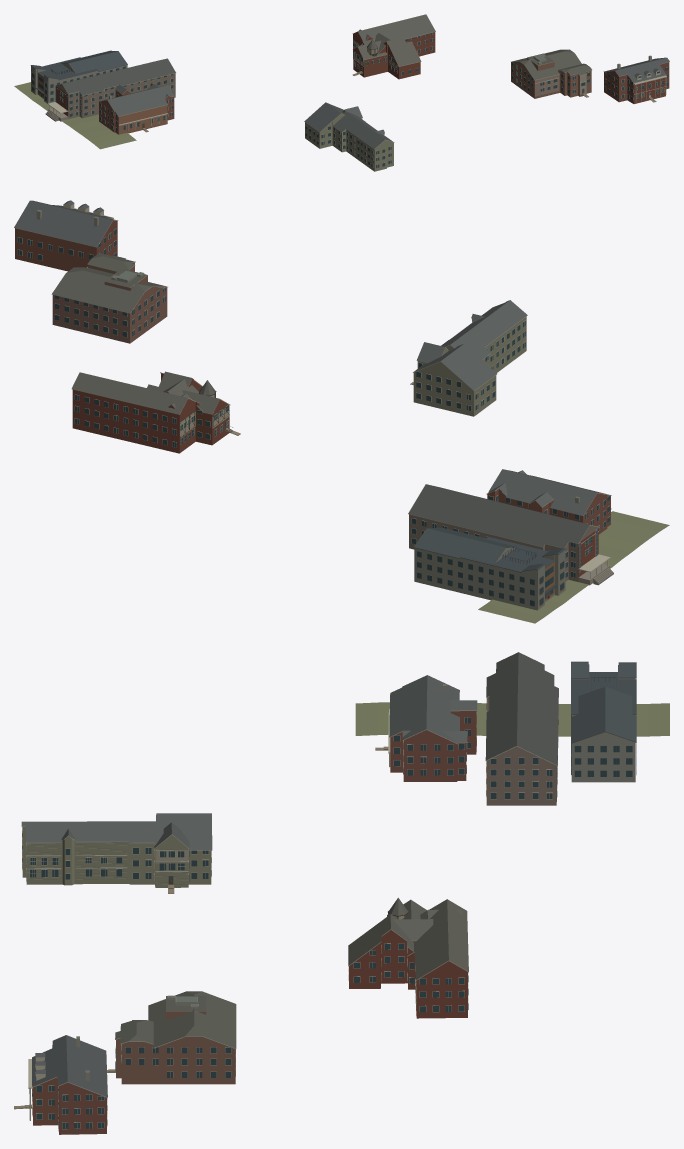
The model's file is site.glb.
The picture shows the model from 3 angles, top to bottom: view 1: azimuth 30°, elevation 25°; view 2: azimuth 150°, elevation 25°; view 3: azimuth 270°, elevation 25°; orthographic projection. The views are drawn at different scales.
Visible parts, largest first — view 1: roof-0945ffaf, roof-903302f0, roof-6dee14b1, roof-acf1c4c2, roof-1fc60a1b, roof-c9808624, sigep-967-patterson, patterson-hilyard-paving; view 2: roof-0945ffaf, sigep-967-patterson, roof-903302f0, roof-6dee14b1, roof-acf1c4c2, roof-c9808624, roof-1fc60a1b, patterson-hilyard-paving; view 3: roof-903302f0, roof-0945ffaf, roof-6dee14b1, roof-acf1c4c2, roof-1fc60a1b, sigep-967-patterson, roof-c9808624, patterson-hilyard-paving.
Boxes of the visible parts, x1,y1,x2,y2 form: roof-0945ffaf: (352,14,435,79); roof-903302f0: (304,102,394,171); roof-6dee14b1: (48,58,175,119); roof-acf1c4c2: (511,49,591,98); roof-1fc60a1b: (98,82,174,134); roof-c9808624: (603,55,669,103); sigep-967-patterson: (30,50,127,103); patterson-hilyard-paving: (14,70,656,149); roof-0945ffaf: (71,371,230,453); sigep-967-patterson: (413,527,565,610); roof-903302f0: (413,300,527,416); roof-6dee14b1: (408,484,610,581); roof-acf1c4c2: (51,253,167,343); roof-c9808624: (14,200,118,271); roof-1fc60a1b: (486,469,611,534); patterson-hilyard-paving: (225,382,669,623); roof-903302f0: (21,813,212,887); roof-0945ffaf: (348,897,468,1018); roof-6dee14b1: (485,652,558,805); roof-acf1c4c2: (115,991,236,1084); roof-1fc60a1b: (388,675,477,781); sigep-967-patterson: (571,661,636,782); roof-c9808624: (28,1035,107,1134); patterson-hilyard-paving: (14,702,669,1109).
Bounding box in the file's own units: 231 × 15.5 × 146.
